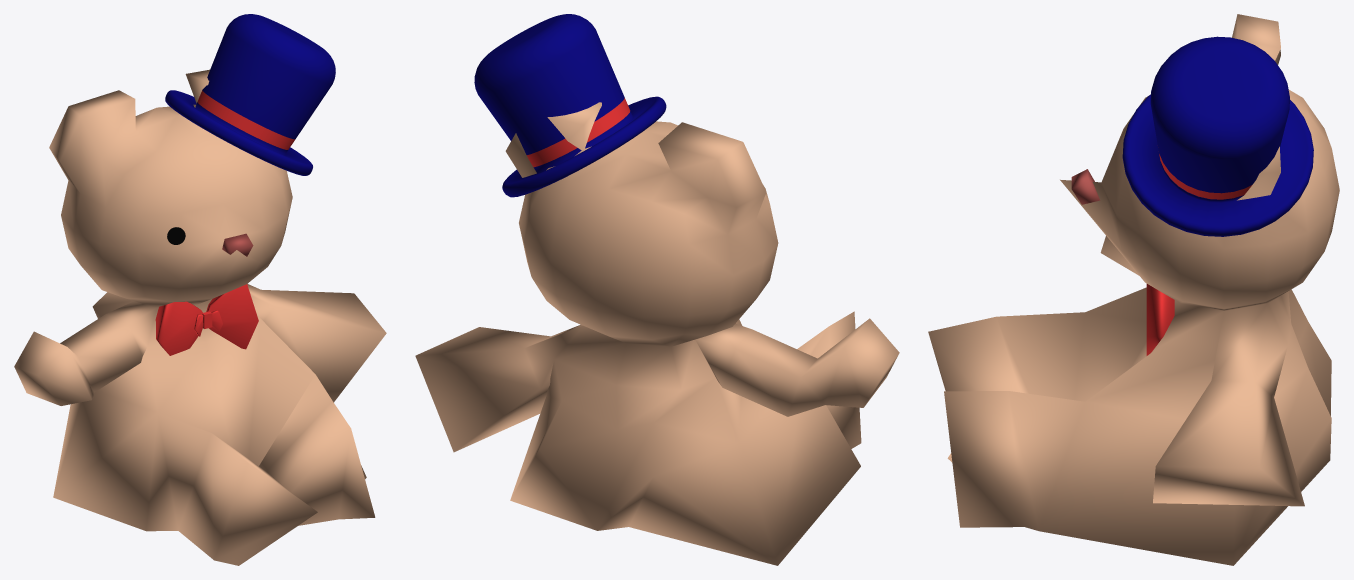
Rendered from bear.gltf.
3 renders of one model, left to right at view 1: azimuth 30°, elevation 25°; view 2: azimuth 150°, elevation 25°; view 3: azimuth 270°, elevation 25°, orthographic. The views are drawn at different scales.
Visible parts, largest first — view 1: 顔, Hat, りぼん, 立方体.001; view 2: 顔, Hat; view 3: 顔, Hat, りぼん, 立方体.001.
Boxes of the visible parts, x1=… form: 顔: x1=14, y1=69, x2=386, y2=565; Hat: x1=165, y1=14, x2=335, y2=175; りぼん: x1=155, y1=284, x2=258, y2=355; 立方体.001: x1=222, y1=233, x2=253, y2=256; 顔: x1=415, y1=102, x2=899, y2=565; Hat: x1=474, y1=14, x2=666, y2=197; 顔: x1=928, y1=14, x2=1339, y2=565; Hat: x1=1122, y1=36, x2=1313, y2=236; りぼん: x1=1146, y1=284, x2=1174, y2=355; 立方体.001: x1=1071, y1=169, x2=1100, y2=204.
Size of the model in its own units: 3.69 by 4.02 by 2.98.
